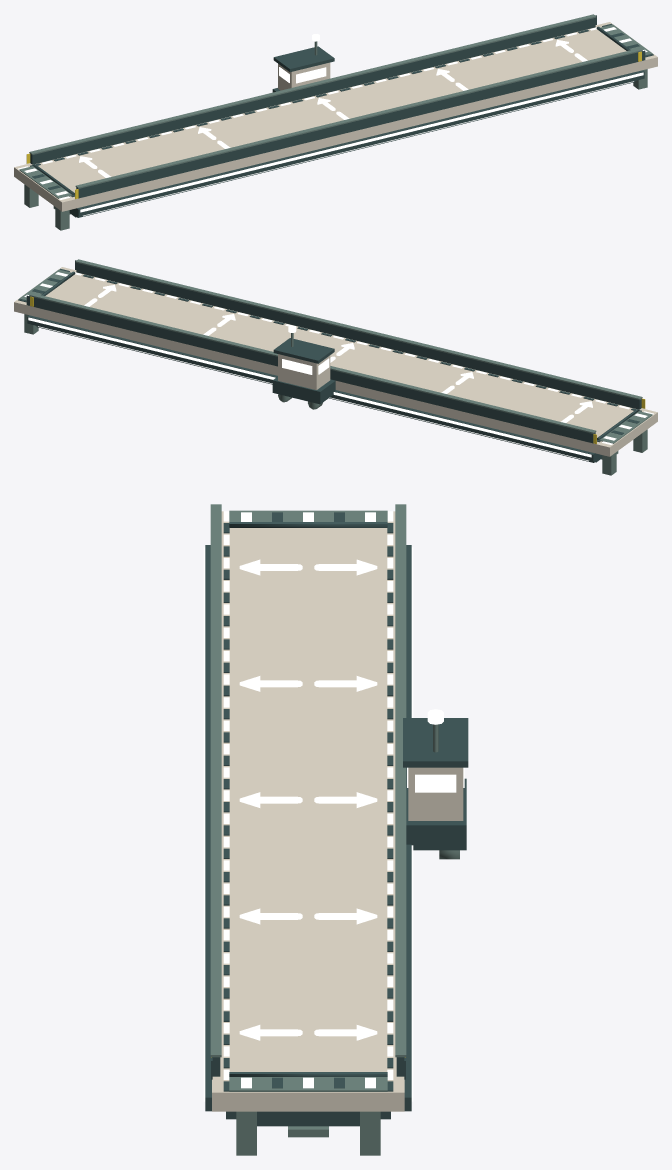
The model's file is Deck_Ferry_v4_20_lab.glb.
3 renders of one model, top to bottom at view 1: azimuth 30°, elevation 25°; view 2: azimuth 150°, elevation 25°; view 3: azimuth 270°, elevation 25°, orthographic. The views are drawn at different scales.
Visible parts, largest first — view 1: Deck_Ferry_v4_20; view 2: Deck_Ferry_v4_20; view 3: Deck_Ferry_v4_20.
Part boxes in pixels (box(x1,y1,x2,y2)): Deck_Ferry_v4_20: box(14, 14, 657, 230); Deck_Ferry_v4_20: box(14, 259, 657, 475); Deck_Ferry_v4_20: box(203, 504, 468, 1155).
Size of the model in its own units: 20 by 2.7 by 3.85.
